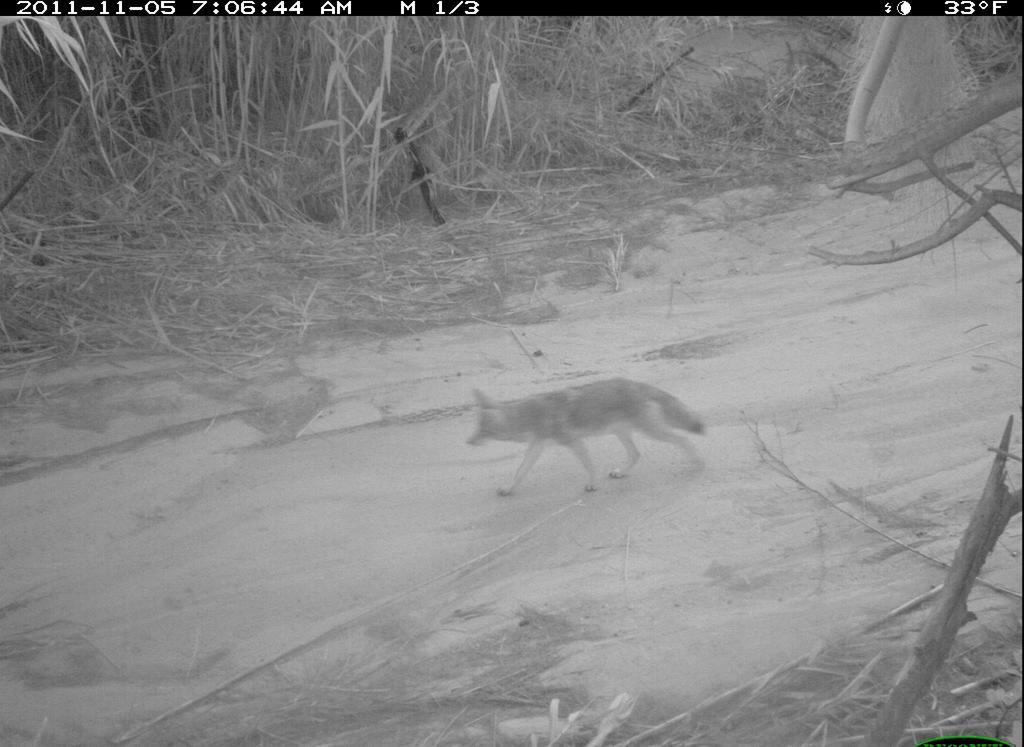coyote: (461, 375, 728, 509)
